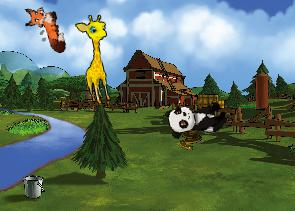fox: (21, 0, 68, 59)
giraffe: (73, 12, 122, 106)
panda: (164, 97, 229, 140)
